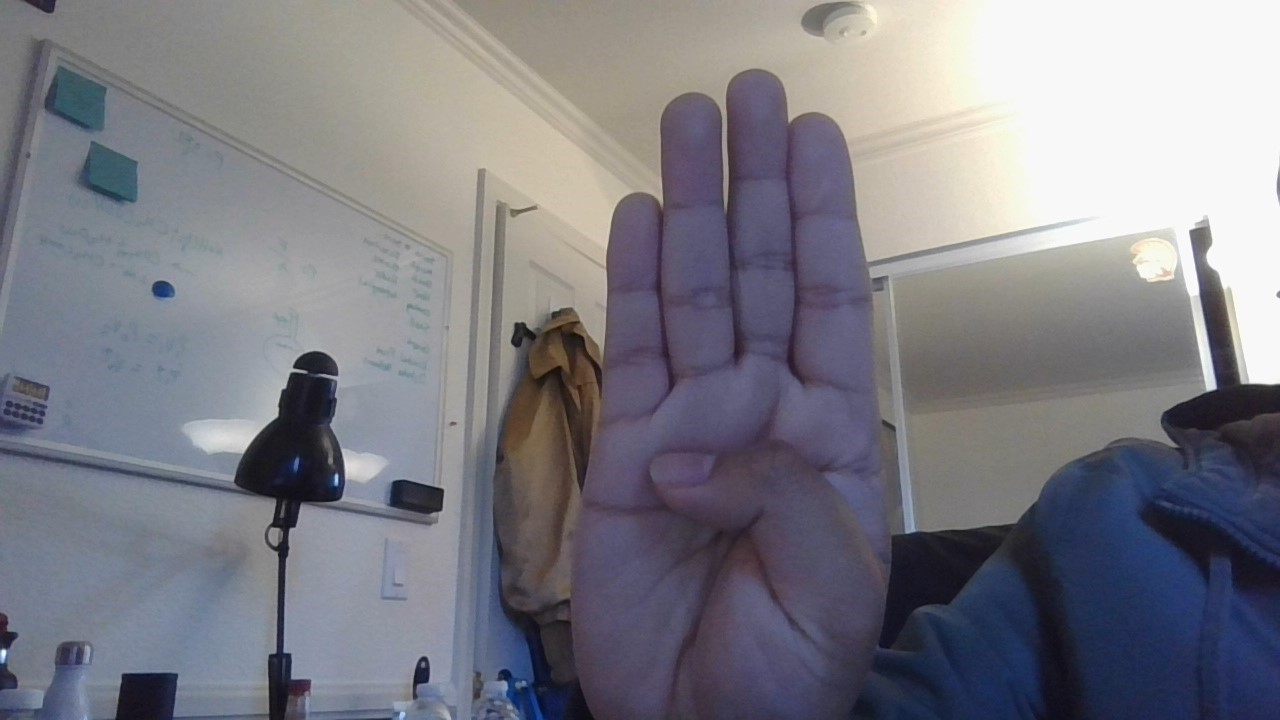b: (534, 54, 920, 720)
